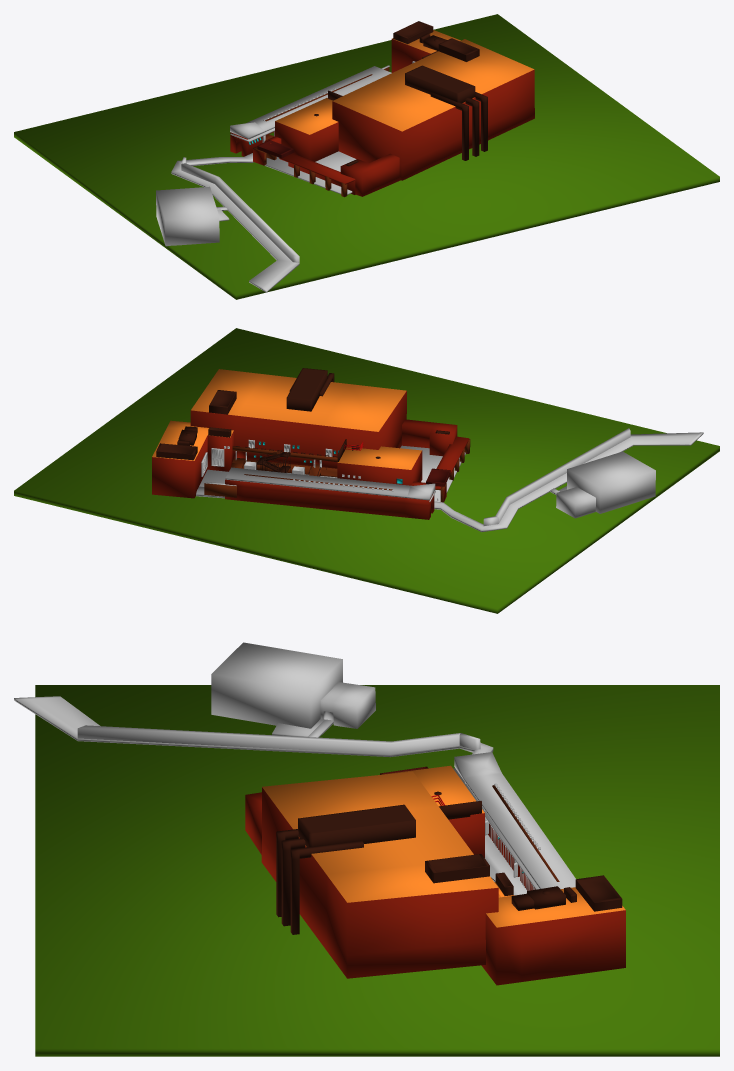
The model's file is Legorretafinal.obj.
3 renders of one model, top to bottom at view 1: azimuth 30°, elevation 25°; view 2: azimuth 150°, elevation 25°; view 3: azimuth 270°, elevation 25°, orthographic. The views are drawn at different scales.
Size of the model in its own units: 22.1 by 2.96 by 18.01.
